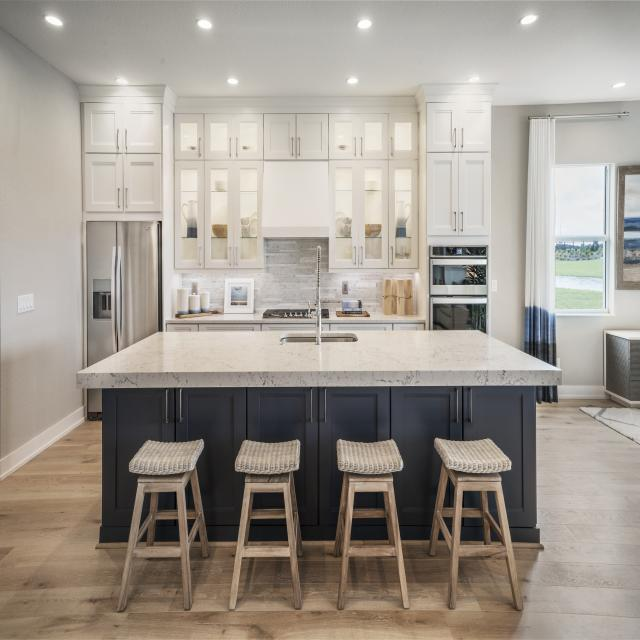Appliance_Fridge: (82, 217, 162, 369)
Appliance_Oven: (428, 244, 489, 333)
Appliance_Sink: (313, 240, 322, 342)
Appliance_Stove: (263, 307, 317, 319), (321, 309, 329, 319)
Cabinet_Glass: (328, 113, 419, 271), (174, 113, 264, 270)
Cabinet_Shaker: (99, 387, 537, 543), (84, 103, 164, 220), (426, 103, 495, 235), (263, 114, 328, 159)
Countertop_Marble: (78, 327, 562, 391)
